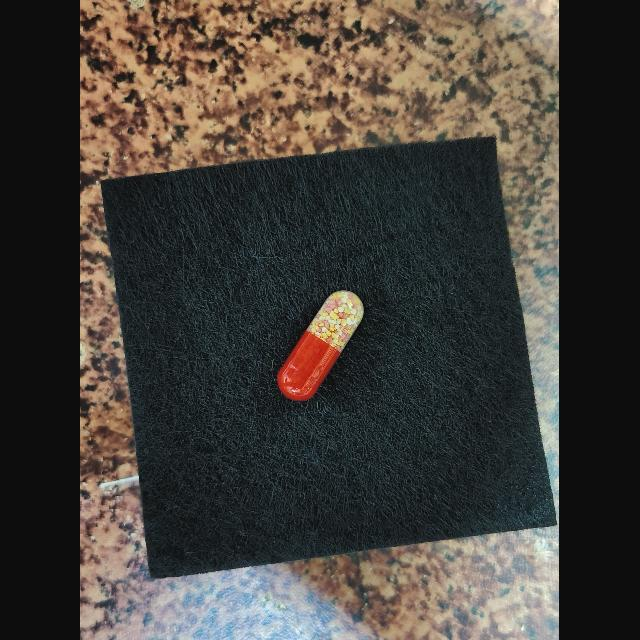Intact Capsule: (277, 290, 364, 401)
